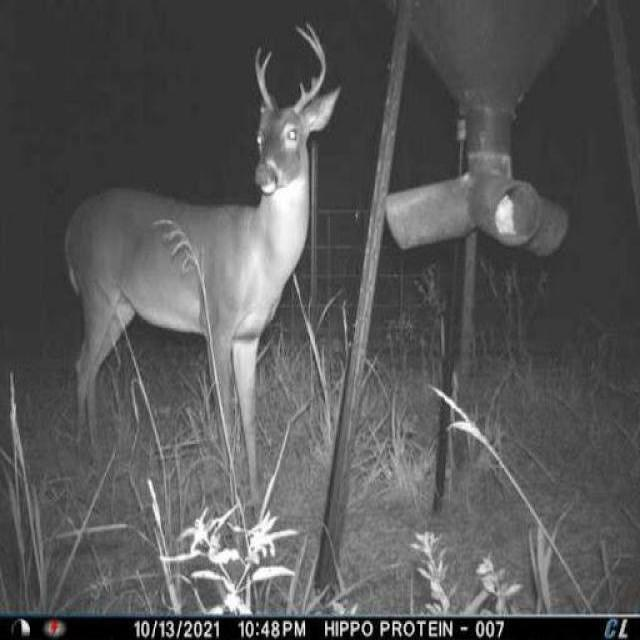deer: (55, 17, 340, 524)
